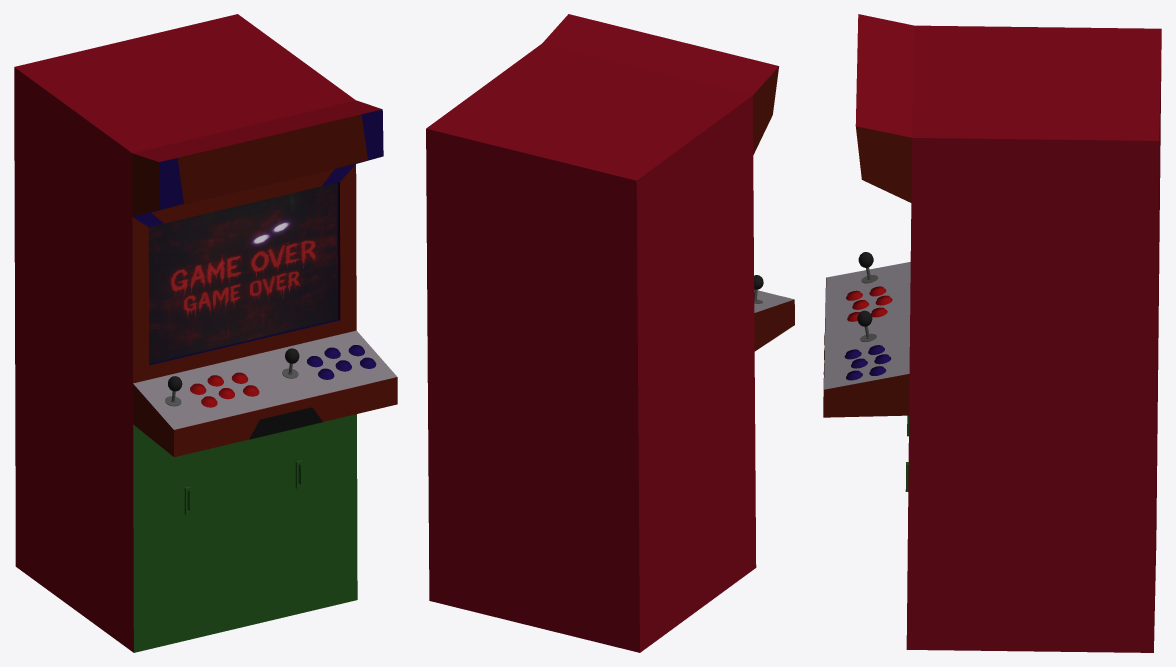
File: arcade.glb
3 renders of one model, left to right at view 1: azimuth 30°, elevation 25°; view 2: azimuth 150°, elevation 25°; view 3: azimuth 270°, elevation 25°, orthographic. The views are drawn at different scales.
Parts seen in each view (by area): view 1: arcade; view 2: arcade; view 3: arcade.
Part boxes in pixels (x1,y1,x2,y2): arcade: (14, 14, 397, 652); arcade: (426, 14, 794, 652); arcade: (823, 14, 1161, 652).
Bounding box in the file's own units: 1.11 × 2.38 × 1.39.
12 materials, 1 textured.
